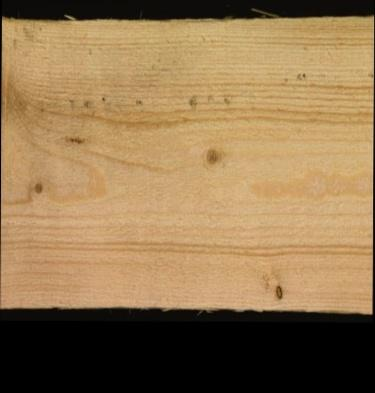dry_knot: (272, 279, 284, 302)
sound_knot: (201, 142, 223, 167), (30, 177, 46, 196)
